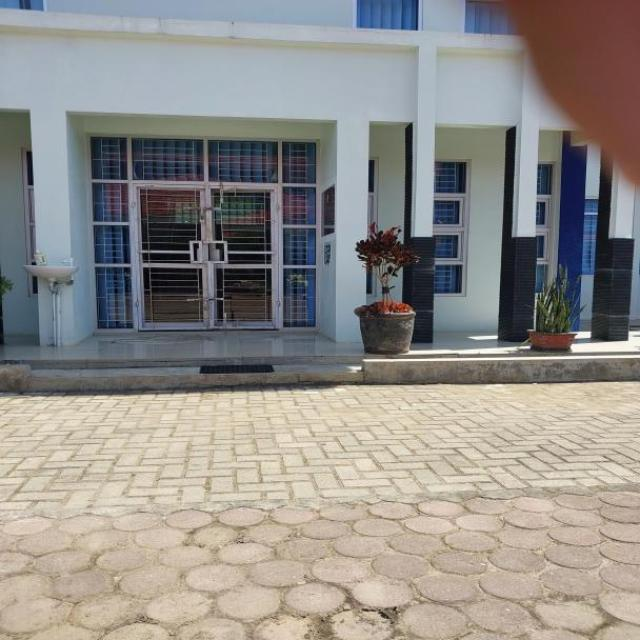Door ahead at: (136, 185, 273, 321)
plant ahead at: (350, 230, 420, 350), (516, 271, 587, 353)
wash basin ahead at: (20, 252, 83, 299)
